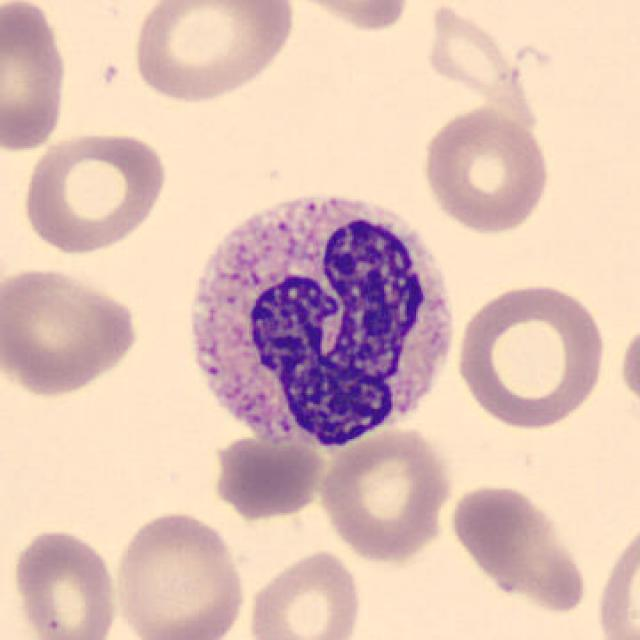Neutrophil: (169, 180, 467, 465)
RBC: (452, 277, 610, 432), (446, 479, 592, 619), (18, 127, 170, 257), (315, 423, 455, 564), (0, 261, 144, 398), (108, 508, 250, 640), (127, 0, 300, 106), (418, 102, 554, 236), (7, 525, 121, 640), (206, 428, 327, 522), (243, 546, 364, 640), (0, 0, 71, 155), (419, 0, 521, 104), (592, 515, 640, 640), (279, 0, 416, 35), (617, 314, 640, 425)
